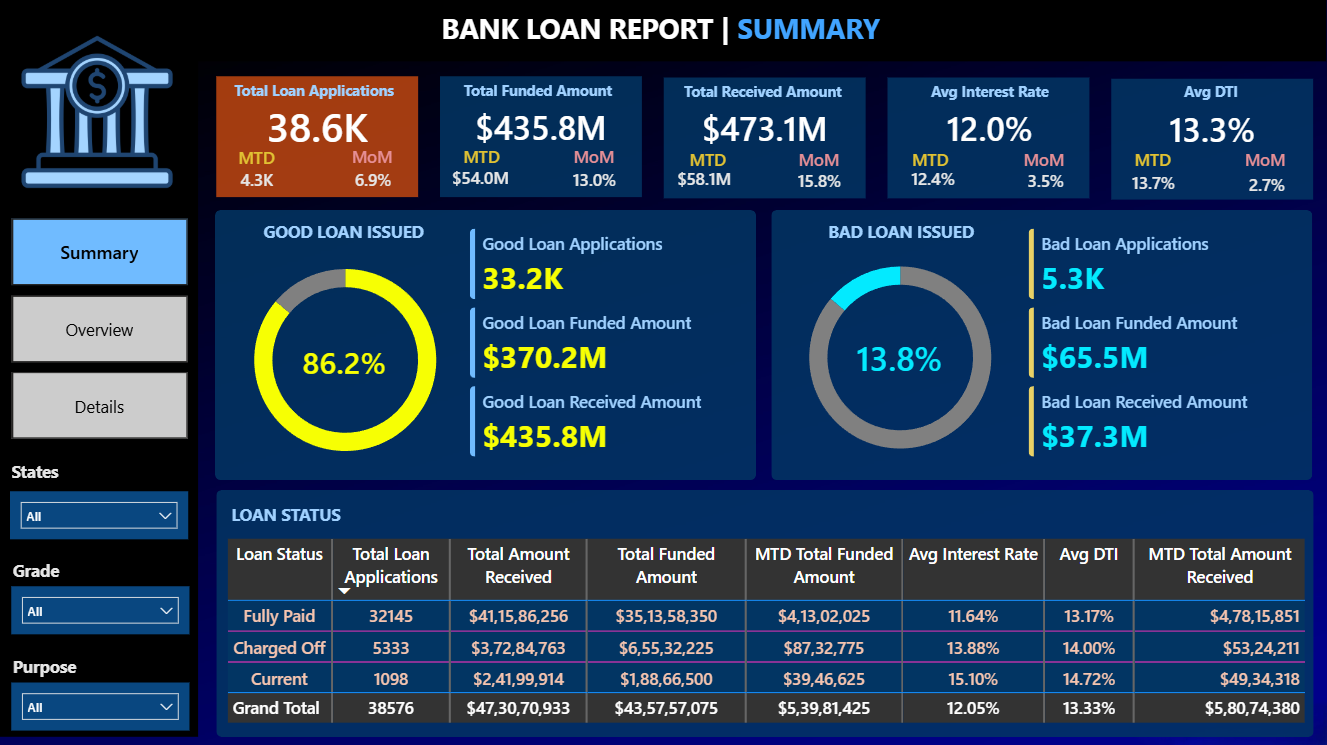

This screenshot's page, from the dashboard's own definition file:
{"tool":"powerbi","page":{"name":"Summary","canvas":[1280,720],"ordinal":0},"visuals":[{"type":"shape","box":[0,0,191.4,711.1],"z":0},{"type":"shape","box":[0,0,1280.2,59.3],"z":1000},{"type":"textbox","box":[421.3,4.1,439.1,48],"z":2000},{"type":"shape","box":[208.6,74.1,194.9,116.6],"z":3000},{"type":"cardVisual","fields":{"Data":["bank_loan_analysis financial_loan.Total Loan Applications"]},"box":[208.3,85,195,72.5],"z":4000},{"type":"textbox","box":[208,72.6,195,31.4],"z":5000},{"type":"cardVisual","title":"MTD","fields":{"Data":["bank_loan_analysis financial_loan.MTD Loan Applications"]},"box":[191.8,144.5,112.7,55.5],"z":6000},{"type":"textbox","box":[208,136,80,37],"z":7000},{"type":"cardVisual","title":"MTD","fields":{"Data":["bank_loan_analysis financial_loan.MoM Loan Applications"]},"box":[311.1,145.8,96.3,53.2],"z":8000},{"type":"shape","box":[424.5,73.9,194.9,116.6],"z":9000},{"type":"cardVisual","fields":{"Data":["bank_loan_analysis financial_loan.Total Funded Amount"]},"box":[424.3,84.4,195,73.3],"z":10000},{"type":"textbox","box":[423.5,72.8,195.1,32.1],"z":11000},{"type":"cardVisual","title":"MTD","fields":{"Data":["bank_loan_analysis financial_loan.MTD Funded Amount"]},"box":[400.2,142.1,126.7,55.8],"z":12000},{"type":"textbox","box":[424.4,135.4,79.9,31.4],"z":13000},{"type":"cardVisual","title":"MTD","fields":{"Data":["bank_loan_analysis financial_loan.MoM Total Funded Amount"]},"box":[515.3,145.8,117.4,52.6],"z":14000},{"type":"textbox","box":[538.6,135.4,69.9,31.4],"z":15000},{"type":"textbox","box":[324.4,135.6,68.9,35.6],"z":16000},{"type":"shape","box":[640.5,75.1,194.9,116.6],"z":17000},{"type":"cardVisual","fields":{"Data":["bank_loan_analysis financial_loan.Total Amount Received"]},"box":[641,85.6,195,73.6],"z":18000},{"type":"textbox","box":[640.5,73.1,195,31.7],"z":19000},{"type":"cardVisual","title":"MTD","fields":{"Data":["bank_loan_analysis financial_loan.MTD Total Amount Received"]},"box":[616.9,143.3,126.7,55.8],"z":20000},{"type":"textbox","box":[641.2,137.5,82.5,33.8],"z":21000},{"type":"cardVisual","title":"MTD","fields":{"Data":["bank_loan_analysis financial_loan.MoM Total Amount Received"]},"box":[732.1,147.4,117.4,52.1],"z":22000},{"type":"textbox","box":[755,137,70,38],"z":23000},{"type":"shape","box":[856.5,75.1,194.9,116.6],"z":24000},{"type":"cardVisual","fields":{"Data":["bank_loan_analysis financial_loan.Avg Interest Rate"]},"box":[857.7,85.6,195,73.6],"z":25000},{"type":"textbox","box":[857.2,73.1,195,31.7],"z":26000},{"type":"cardVisual","title":"MTD","fields":{"Data":["bank_loan_analysis financial_loan.MTD Avg Interest Rate"]},"box":[841.1,143.5,119.2,55.8],"z":27000},{"type":"textbox","box":[858,137,80,36],"z":28000},{"type":"cardVisual","title":"MTD","fields":{"Data":["bank_loan_analysis financial_loan.MoM Avg Interest Rate"]},"box":[950.5,146.8,117.4,52.6],"z":29000},{"type":"textbox","box":[972,137,70,40],"z":30000},{"type":"shape","box":[1072.4,75.8,194.9,116.6],"z":31000},{"type":"cardVisual","fields":{"Data":["bank_loan_analysis financial_loan.Avg DTI"]},"box":[1072.1,86.3,195,73.6],"z":32000},{"type":"textbox","box":[1071.6,73.8,195,31.7],"z":33000},{"type":"cardVisual","title":"MTD","fields":{"Data":["bank_loan_analysis financial_loan.MTD Avg DTI"]},"box":[1053,147,120,55],"z":34000},{"type":"textbox","box":[1072.2,137.3,79.9,31.4],"z":35000},{"type":"cardVisual","title":"MTD","fields":{"Data":["bank_loan_analysis financial_loan.MoM Avg DTI"]},"box":[1166.3,150.5,112.1,52.1],"z":36000},{"type":"textbox","box":[1186.4,137.3,69.9,31.4],"z":37000},{"type":"shape","box":[207.4,202.5,522.2,260.5],"z":38000},{"type":"shape","box":[744.4,202.5,522.2,260.5],"z":39000},{"type":"donutChart","fields":{"Category":["bank_loan_analysis financial_loan.Good v Bad Loan"],"Y":["bank_loan_analysis financial_loan.Total Loan Applications"]},"box":[208.6,233.3,249.4,229.6],"z":40000},{"type":"cardVisual","fields":{"Data":["bank_loan_analysis financial_loan.Good Loan %"]},"box":[244.4,316.1,175.3,63],"z":41000},{"type":"textbox","box":[234.6,207.4,195.1,34.6],"z":42000},{"type":"cardVisual","fields":{"Data":["bank_loan_analysis financial_loan.Good Loan Applications","bank_loan_analysis financial_loan.Good Loan Funded Amount","bank_loan_analysis financial_loan.Good Loan Received Amount"]},"box":[437,203.7,286.4,256.8],"z":43000},{"type":"donutChart","fields":{"Category":["bank_loan_analysis financial_loan.Good v Bad Loan"],"Y":["bank_loan_analysis financial_loan.Total Loan Applications"]},"box":[744.4,230.9,249.4,229.6],"z":44000},{"type":"textbox","box":[771.6,207.4,195.1,34.6],"z":45000},{"type":"cardVisual","fields":{"Data":["bank_loan_analysis financial_loan.Bad Loan %"]},"box":[780.2,311.1,175.3,65.4],"z":46000},{"type":"cardVisual","fields":{"Data":["bank_loan_analysis financial_loan.Bad Loan Applications","bank_loan_analysis financial_loan.Bad Loan Funded Amount","bank_loan_analysis financial_loan.Bad Loan Received Amount"]},"box":[976.5,203.7,286.4,256.8],"z":47000},{"type":"shape","box":[208.6,472.8,1059.3,238.3],"z":48000},{"type":"tableEx","fields":{"Values":["bank_loan_analysis financial_loan.loan_status","bank_loan_analysis financial_loan.Total Loan Applications","bank_loan_analysis financial_loan.Total Amount Received","bank_loan_analysis financial_loan.Total Funded Amount","bank_loan_analysis financial_loan.MTD Total Funded Amount","bank_loan_analysis financial_loan.Avg Interest Rate","bank_loan_analysis financial_loan.Avg DTI","bank_loan_analysis financial_loan.MTD Total Amount Received"]},"box":[213.2,515.3,1055,194.3],"z":49000},{"type":"textbox","box":[218.5,480.2,190.1,34.6],"z":50000},{"type":"slicer","fields":{"Values":["bank_loan_analysis financial_loan.address_state"]},"box":[10.2,474,172,46.4],"z":51000},{"type":"textbox","box":[5.7,439.6,67.3,34.4],"z":52000},{"type":"slicer","fields":{"Values":["bank_loan_analysis financial_loan.grade"]},"box":[10.4,565.5,172,46.4],"z":53000},{"type":"textbox","box":[7.1,533.9,67.7,34.5],"z":54000},{"type":"slicer","fields":{"Values":["bank_loan_analysis financial_loan.purpose"]},"box":[10.9,658.9,172,46.4],"z":55000},{"type":"textbox","box":[7.7,627.2,86.9,34.5],"z":56000},{"type":"image","box":[18.6,14.3,151.4,187.1],"z":57000},{"type":"pageNavigator","box":[11.4,211.4,170,214.3],"z":58000}]}

Visuals, with their boxes in screenshot pixels (x1, y1, x2, y2), scaled from the page's 1280x720 canvas onto the 1327x745 screenshot:
shape: <box>0,0,198,736</box>
shape: <box>0,0,1326,61</box>
textbox: <box>437,4,892,54</box>
shape: <box>216,77,418,197</box>
cardVisual - bank_loan_analysis financial_loan.Total Loan Applications: <box>216,88,418,163</box>
textbox: <box>216,75,418,108</box>
"MTD" cardVisual: <box>199,150,316,207</box>
textbox: <box>216,141,299,179</box>
"MTD" cardVisual: <box>323,151,422,206</box>
shape: <box>440,76,642,197</box>
cardVisual - bank_loan_analysis financial_loan.Total Funded Amount: <box>440,87,642,163</box>
textbox: <box>439,75,641,109</box>
"MTD" cardVisual: <box>415,147,546,205</box>
textbox: <box>440,140,523,173</box>
"MTD" cardVisual: <box>534,151,656,205</box>
textbox: <box>558,140,631,173</box>
textbox: <box>336,140,408,177</box>
shape: <box>664,78,866,198</box>
cardVisual - bank_loan_analysis financial_loan.Total Amount Received: <box>665,89,867,165</box>
textbox: <box>664,76,866,108</box>
"MTD" cardVisual: <box>640,148,771,206</box>
textbox: <box>665,142,750,177</box>
"MTD" cardVisual: <box>759,153,881,206</box>
textbox: <box>783,142,855,181</box>
shape: <box>888,78,1090,198</box>
cardVisual - bank_loan_analysis financial_loan.Avg Interest Rate: <box>889,89,1091,165</box>
textbox: <box>889,76,1091,108</box>
"MTD" cardVisual: <box>872,148,996,206</box>
textbox: <box>890,142,972,179</box>
"MTD" cardVisual: <box>985,152,1107,206</box>
textbox: <box>1008,142,1080,183</box>
shape: <box>1112,78,1314,199</box>
cardVisual - bank_loan_analysis financial_loan.Avg DTI: <box>1111,89,1314,165</box>
textbox: <box>1111,76,1313,109</box>
"MTD" cardVisual: <box>1092,152,1216,209</box>
textbox: <box>1112,142,1194,175</box>
"MTD" cardVisual: <box>1209,156,1325,210</box>
textbox: <box>1230,142,1302,175</box>
shape: <box>215,210,756,479</box>
shape: <box>772,210,1313,479</box>
donutChart - bank_loan_analysis financial_loan.Good v Bad Loan x bank_loan_analysis financial_loan.Total Loan Applications: <box>216,241,475,479</box>
cardVisual - bank_loan_analysis financial_loan.Good Loan %: <box>253,327,435,392</box>
textbox: <box>243,215,445,250</box>
cardVisual - bank_loan_analysis financial_loan.Good Loan Applications x bank_loan_analysis financial_loan.Good Loan Funded Amount: <box>453,211,750,476</box>
donutChart - bank_loan_analysis financial_loan.Good v Bad Loan x bank_loan_analysis financial_loan.Total Loan Applications: <box>772,239,1030,476</box>
textbox: <box>800,215,1002,250</box>
cardVisual - bank_loan_analysis financial_loan.Bad Loan %: <box>809,322,991,390</box>
cardVisual - bank_loan_analysis financial_loan.Bad Loan Applications x bank_loan_analysis financial_loan.Bad Loan Funded Amount: <box>1012,211,1309,476</box>
shape: <box>216,489,1314,736</box>
tableEx - bank_loan_analysis financial_loan.loan_status x bank_loan_analysis financial_loan.Total Loan Applications: <box>221,533,1315,734</box>
textbox: <box>227,497,424,533</box>
slicer - bank_loan_analysis financial_loan.address_state: <box>11,490,189,538</box>
textbox: <box>6,455,76,490</box>
slicer - bank_loan_analysis financial_loan.grade: <box>11,585,189,633</box>
textbox: <box>7,552,78,588</box>
slicer - bank_loan_analysis financial_loan.purpose: <box>11,682,190,730</box>
textbox: <box>8,649,98,685</box>
image: <box>19,15,176,208</box>
pageNavigator: <box>12,219,188,440</box>
